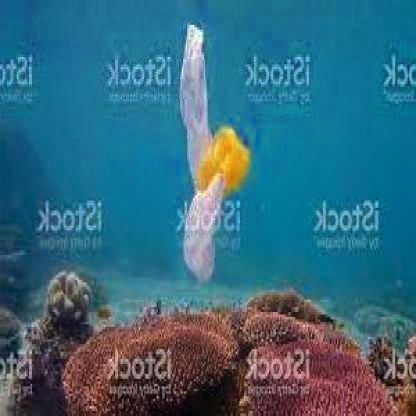pbag: (177, 23, 251, 288)
